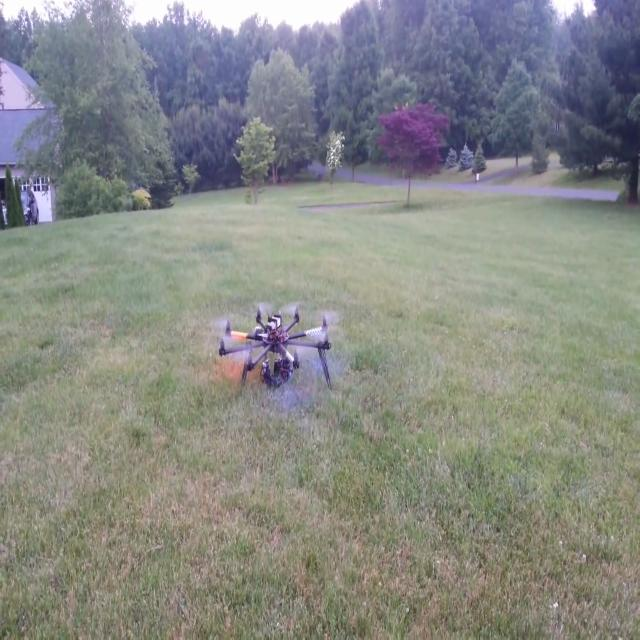drone: (210, 305, 350, 404)
